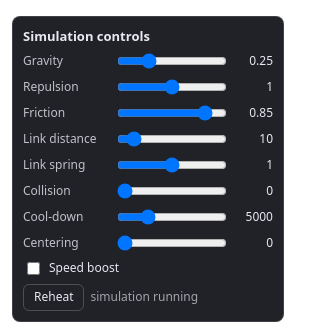
<GraphSimControls> slider writes › round-trips prior writes: the second commit carries the merged SimulationConfig
Set the slider labelled "Gravity" to "0.5" at (172, 61), box x1=117 y1=53 x2=227 y2=69
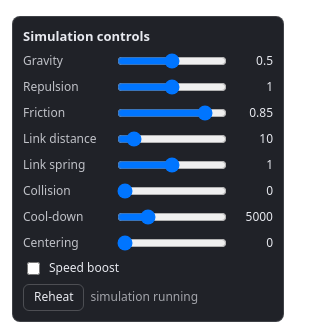
Set the slider labelled "Friction" to "0.7" at (191, 113), box x1=117 y1=105 x2=227 y2=121
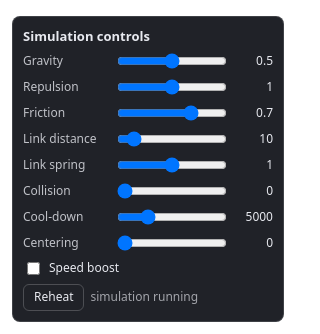
Result: the text "0.5" is shown at x1=256 y1=52 x2=273 y2=69
Result: the text "0.7" is shown at x1=256 y1=104 x2=273 y2=121
